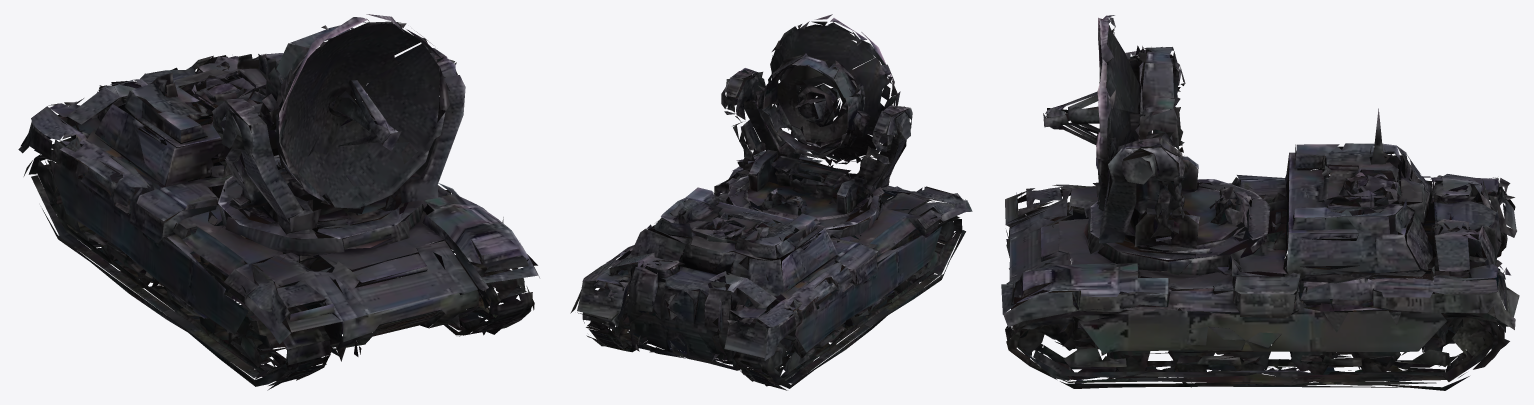
The model's file is sonic_current.glb.
The picture shows the model from 3 angles, left to right: view 1: azimuth 30°, elevation 25°; view 2: azimuth 150°, elevation 25°; view 3: azimuth 270°, elevation 25°; orthographic projection. The views are drawn at different scales.
Visible parts, largest first — view 1: Mesh_0; view 2: Mesh_0; view 3: Mesh_0.
Boxes of the visible parts, x1,y1,x2,y2 form: Mesh_0: [18, 14, 539, 390]; Mesh_0: [570, 14, 972, 390]; Mesh_0: [1001, 15, 1519, 390].
Size of the model in its own units: 0.5614 by 0.6783 by 1.
Materials: 1 (1 with a texture image).
